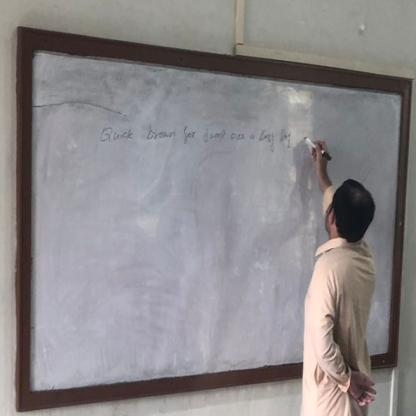Handwritten text: (99, 119, 299, 159)
Lecturer: (304, 141, 375, 406)
Whiteboard: (16, 42, 404, 415)
